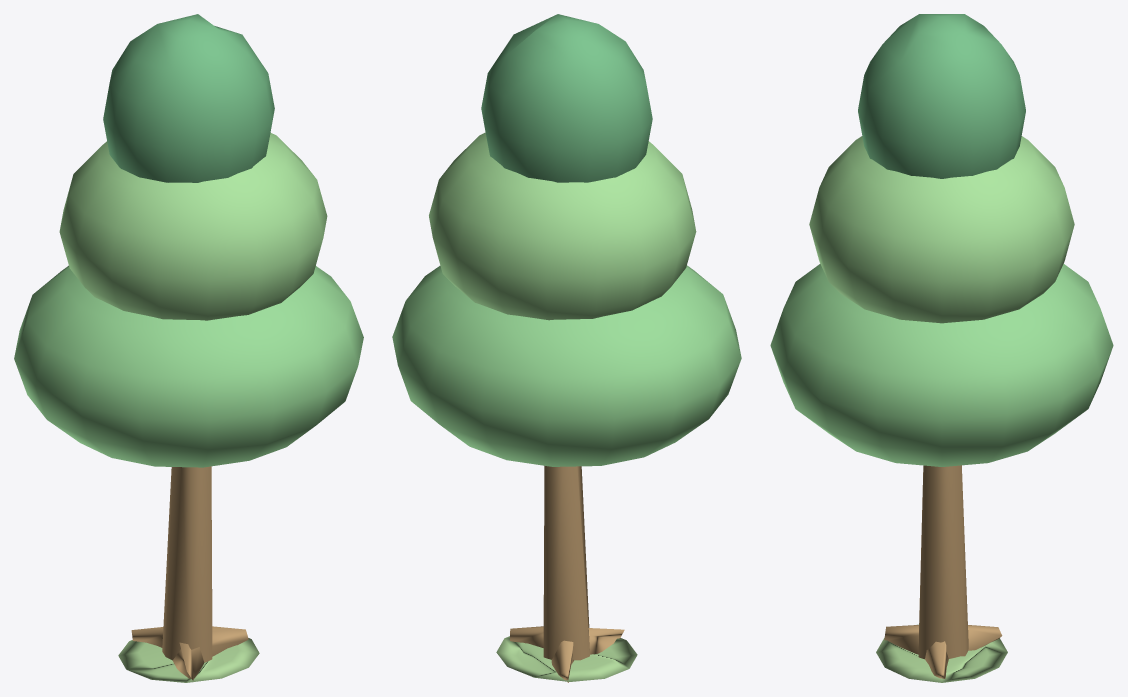
File: tree_v3_summer_low.glb
3 renders of one model, left to right at view 1: azimuth 30°, elevation 25°; view 2: azimuth 150°, elevation 25°; view 3: azimuth 270°, elevation 25°, orthographic.
Size of the model in its own units: 2.75 by 5.45 by 2.65.
